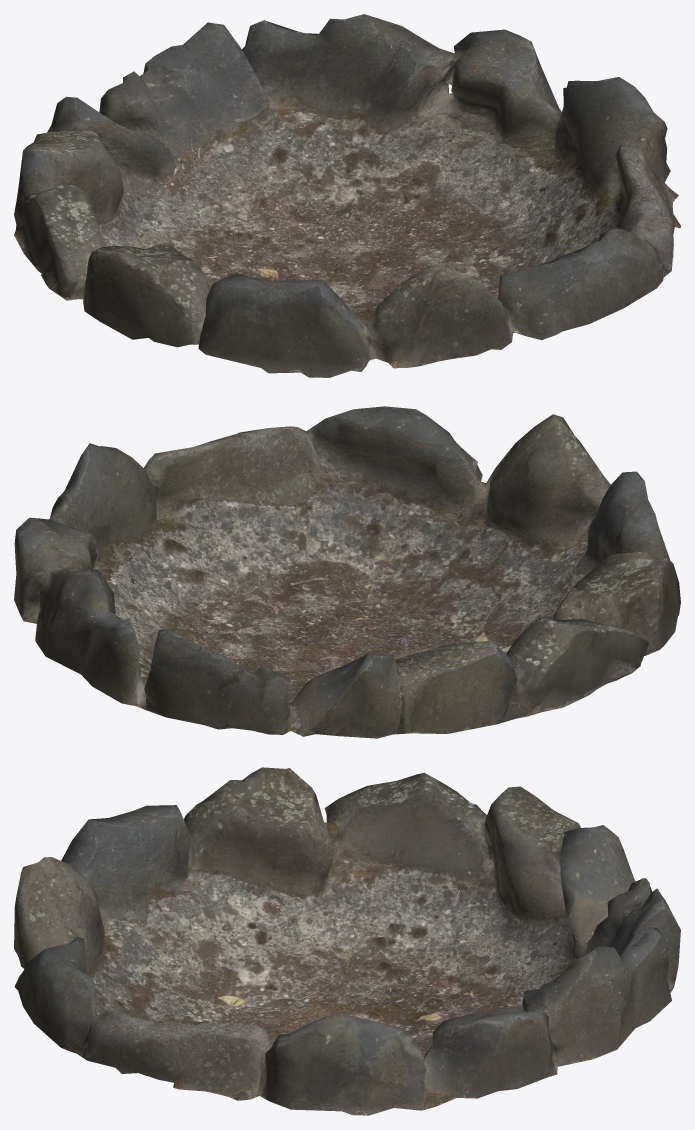
Rendered from stone_fire_pit.glb.
3 views of the same model, one above another, from view 1: azimuth 30°, elevation 25°; view 2: azimuth 150°, elevation 25°; view 3: azimuth 270°, elevation 25° (orthographic).
Parts seen in each view (by area): view 1: stone_fire_pit; view 2: stone_fire_pit; view 3: stone_fire_pit.
Part boxes in pixels (x1=…): stone_fire_pit: x1=14, y1=14, x2=680, y2=377; stone_fire_pit: x1=14, y1=406, x2=680, y2=738; stone_fire_pit: x1=14, y1=767, x2=680, y2=1115.
Bounding box in the file's own units: 1.45 × 0.3884 × 1.43.
Materials: 1 (1 with a texture image).
